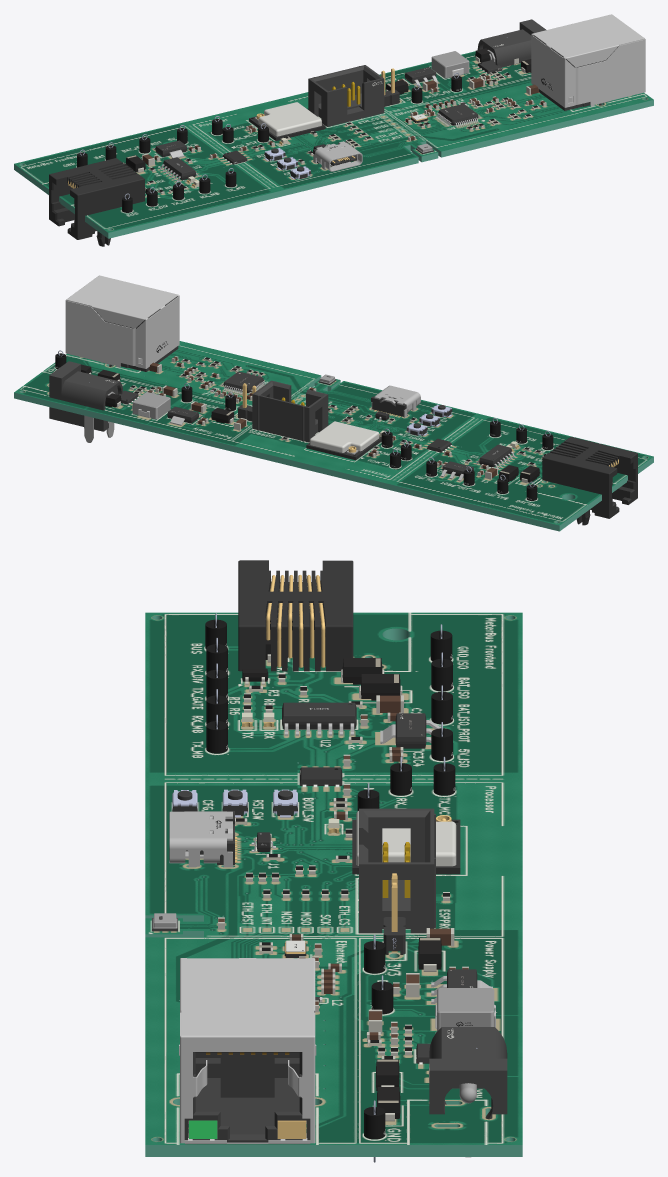
File: eveningstar-green.glb
The picture shows the model from 3 angles, top to bottom: view 1: azimuth 30°, elevation 25°; view 2: azimuth 150°, elevation 25°; view 3: azimuth 270°, elevation 25°; orthographic projection. The views are drawn at different scales.
Visible parts, largest first — view 1: =>[0:1:1:54], =>[0:1:1:27], =>[0:1:1:11], =>[0:1:1:25], =>[0:1:1:3], =>[0:1:1:5], =>[0:1:1:7], =>[0:1:1:23], =>[0:1:1:31], =>[0:1:1:9]; view 2: =>[0:1:1:54], =>[0:1:1:27], =>[0:1:1:11], =>[0:1:1:25], =>[0:1:1:3], =>[0:1:1:5], =>[0:1:1:31], =>[0:1:1:7], =>[0:1:1:23], =>[0:1:1:9]; view 3: =>[0:1:1:54], =>[0:1:1:27], =>[0:1:1:11], =>[0:1:1:3], =>[0:1:1:25], =>[0:1:1:5], =>[0:1:1:31], =>[0:1:1:23], =>[0:1:1:7], =>[0:1:1:9].
Boxes of the visible parts, x1=… form: =>[0:1:1:54]: x1=14, y1=51, x2=653, y2=238; =>[0:1:1:27]: x1=531, y1=14, x2=645, y2=110; =>[0:1:1:11]: x1=49, y1=58, x2=469, y2=246; =>[0:1:1:25]: x1=308, y1=19, x2=546, y2=154; =>[0:1:1:3]: x1=77, y1=56, x2=552, y2=212; =>[0:1:1:5]: x1=153, y1=44, x2=503, y2=181; =>[0:1:1:7]: x1=143, y1=75, x2=544, y2=164; =>[0:1:1:23]: x1=431, y1=51, x2=469, y2=78; =>[0:1:1:31]: x1=123, y1=48, x2=531, y2=171; =>[0:1:1:9]: x1=264, y1=148, x2=310, y2=178; =>[0:1:1:54]: x1=14, y1=341, x2=653, y2=531; =>[0:1:1:27]: x1=65, y1=275, x2=179, y2=371; =>[0:1:1:11]: x1=132, y1=383, x2=637, y2=525; =>[0:1:1:25]: x1=49, y1=361, x2=336, y2=442; =>[0:1:1:3]: x1=55, y1=341, x2=553, y2=500; =>[0:1:1:5]: x1=56, y1=367, x2=547, y2=499; =>[0:1:1:31]: x1=81, y1=364, x2=539, y2=482; =>[0:1:1:7]: x1=148, y1=357, x2=496, y2=478; =>[0:1:1:23]: x1=133, y1=392, x2=389, y2=420; =>[0:1:1:9]: x1=406, y1=404, x2=451, y2=435; =>[0:1:1:54]: x1=145, y1=612, x2=522, y2=1156; =>[0:1:1:27]: x1=179, y1=958, x2=316, y2=1144; =>[0:1:1:11]: x1=169, y1=560, x2=494, y2=1138; =>[0:1:1:3]: x1=205, y1=619, x2=472, y2=1139; =>[0:1:1:25]: x1=152, y1=808, x2=507, y2=1157; =>[0:1:1:5]: x1=172, y1=643, x2=492, y2=1134; =>[0:1:1:31]: x1=265, y1=639, x2=441, y2=1118; =>[0:1:1:23]: x1=251, y1=833, x2=495, y2=1028; =>[0:1:1:7]: x1=218, y1=695, x2=468, y2=1039; =>[0:1:1:9]: x1=172, y1=789, x2=297, y2=817.
Bounding box in the file's own units: 0.1477 × 0.0232 × 0.0436.
37 materials, 2 textured.
